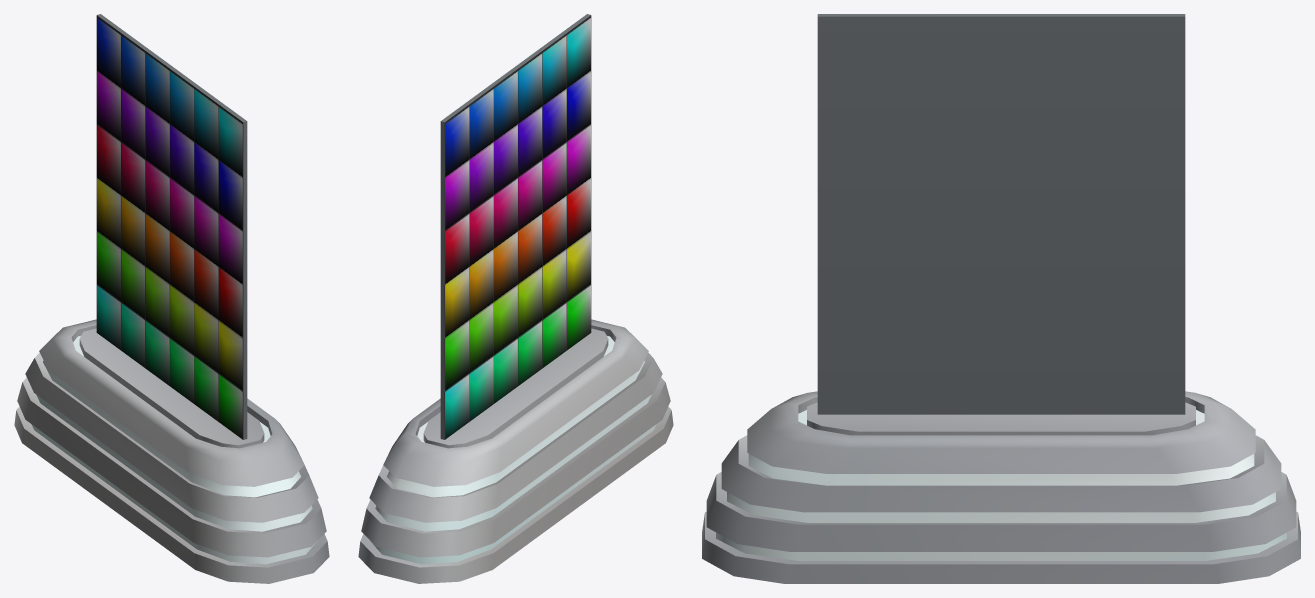
Rendered from Broadcast_Mdl_V01.fbx.
3 renders of one model, left to right at view 1: azimuth 30°, elevation 25°; view 2: azimuth 150°, elevation 25°; view 3: azimuth 270°, elevation 25°, orthographic. The views are drawn at different scales.
Parts seen in each view (by area): view 1: BroadcastScreen_Mdl_V01, BroadcastBody_Mdl_V01; view 2: BroadcastScreen_Mdl_V01, BroadcastBody_Mdl_V01; view 3: BroadcastScreen_Mdl_V01, BroadcastBody_Mdl_V01.
Part boxes in pixels (left/top/right/bottom): BroadcastScreen_Mdl_V01: left=96, top=14, right=247, bottom=439; BroadcastBody_Mdl_V01: left=14, top=319, right=329, bottom=583; BroadcastScreen_Mdl_V01: left=440, top=14, right=591, bottom=439; BroadcastBody_Mdl_V01: left=358, top=319, right=673, bottom=583; BroadcastScreen_Mdl_V01: left=817, top=14, right=1185, bottom=414; BroadcastBody_Mdl_V01: left=702, top=391, right=1300, bottom=583.
Bounding box in the file's own units: 0.6005 × 1.92 × 1.96.
